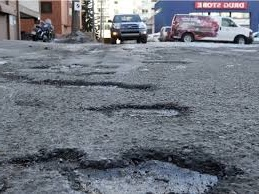pothole: (8, 149, 221, 192), (89, 96, 186, 125), (22, 81, 155, 91), (138, 56, 192, 69), (76, 67, 117, 78)
